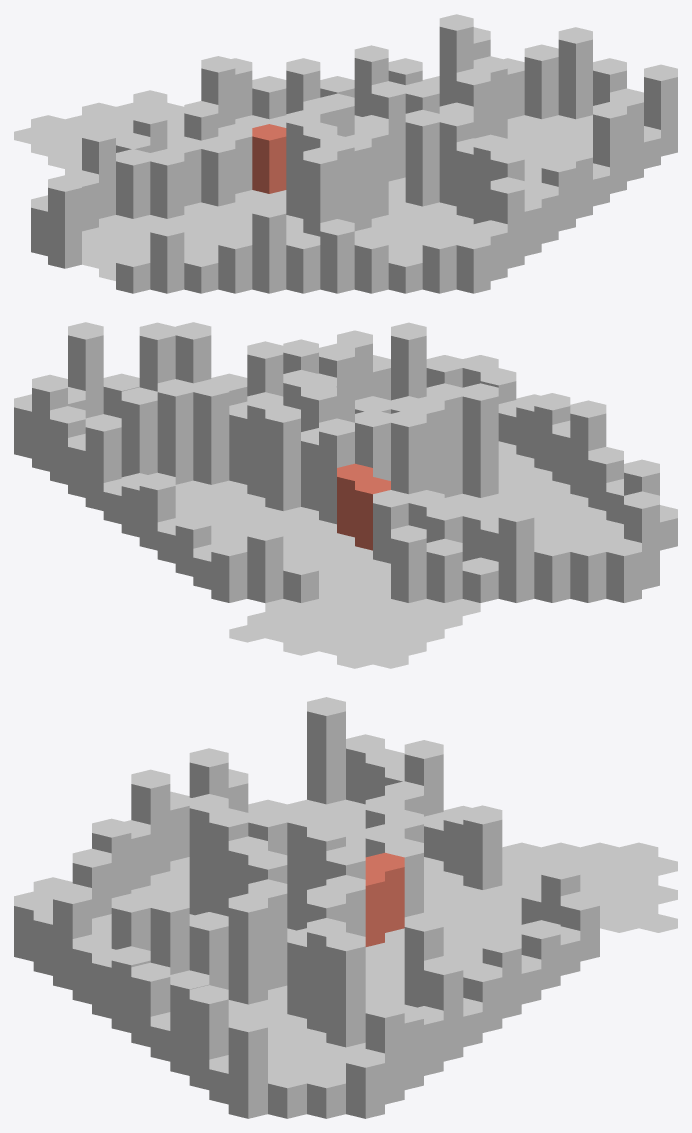
File: Hexagon Tile Map.fbx
3 views of the same model, one above another, from view 1: azimuth 30°, elevation 25°; view 2: azimuth 150°, elevation 25°; view 3: azimuth 270°, elevation 25° (orthographic). The views are drawn at different scales.
Visible parts, largest first — view 1: Circle.162, Circle.013, Circle.029, Circle.141, Circle.082, Circle.207, Circle.219, Circle.187, Circle.028, Circle.011, Circle.016, Circle.160 (+79 smaller); view 2: Circle.082, Circle.181, Circle.160, Circle.189, Circle.130, Circle.187, Circle.026, Circle.073, Circle.219, Circle.067, Circle.109, Circle.048 (+55 smaller); view 3: Circle.189, Circle.036, Circle.219, Circle.141, Circle.212, Circle.109, Circle.013, Circle.026, Circle.029, Circle.167, Circle.038, Circle.082 (+56 smaller).
Boxes of the visible parts, x1,y1,x2,y2 form: Circle.162: (405,109,439,206); Circle.013: (252,201,286,293); Circle.029: (558,27,592,119); Circle.141: (48,175,81,268); Circle.082: (303,147,337,236); Circle.207: (593,102,626,193); Circle.219: (644,64,677,156); Circle.187: (439,14,473,106); Circle.028: (524,44,558,119); Circle.011: (320,219,354,293); Circle.016: (150,220,184,293); Circle.160: (371,81,405,181); Circle.082: (462,383,498,497); Circle.181: (193,379,229,484); Circle.160: (265,405,300,510); Circle.189: (157,379,193,484); Circle.130: (498,504,534,602); Circle.187: (121,387,157,477); Circle.026: (85,414,121,510); Circle.073: (391,409,426,494); Circle.219: (68,322,103,418); Circle.067: (247,523,283,602); Circle.109: (391,525,426,602); Circle.048: (319,418,354,524); Circle.189: (326,932,365,1047); Circle.036: (228,893,267,1004); Circle.219: (228,1013,267,1118); Circle.141: (307,697,345,804); Circle.212: (189,985,228,1089); Circle.109: (463,805,502,889); Circle.013: (131,769,170,875); Circle.026: (424,956,463,1061); Circle.029: (365,999,404,1104); Circle.167: (53,885,91,989); Circle.038: (150,893,189,974); Circle.082: (189,794,228,915).
Size of the model in its own units: 3500 by 566 by 2944.
